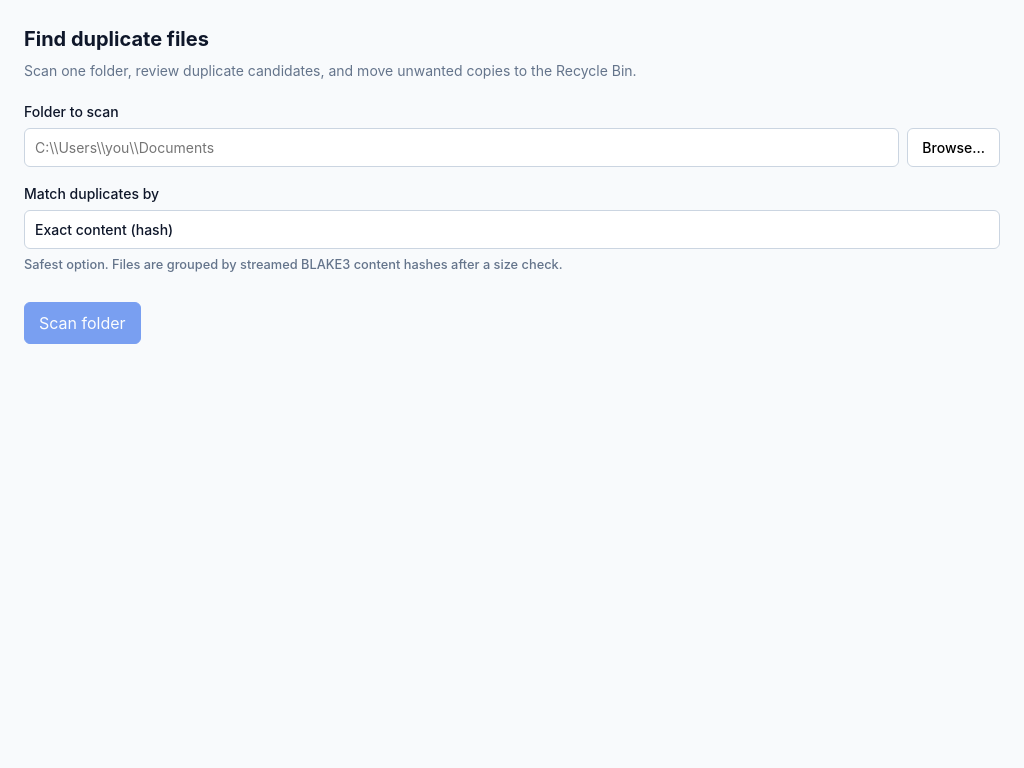
DuplicatesView › scans a folder and renders duplicate groups
Type "C:/Documents" into the field labelled "Folder to scan Browse..." at (462, 147), box [24, 128, 899, 167]
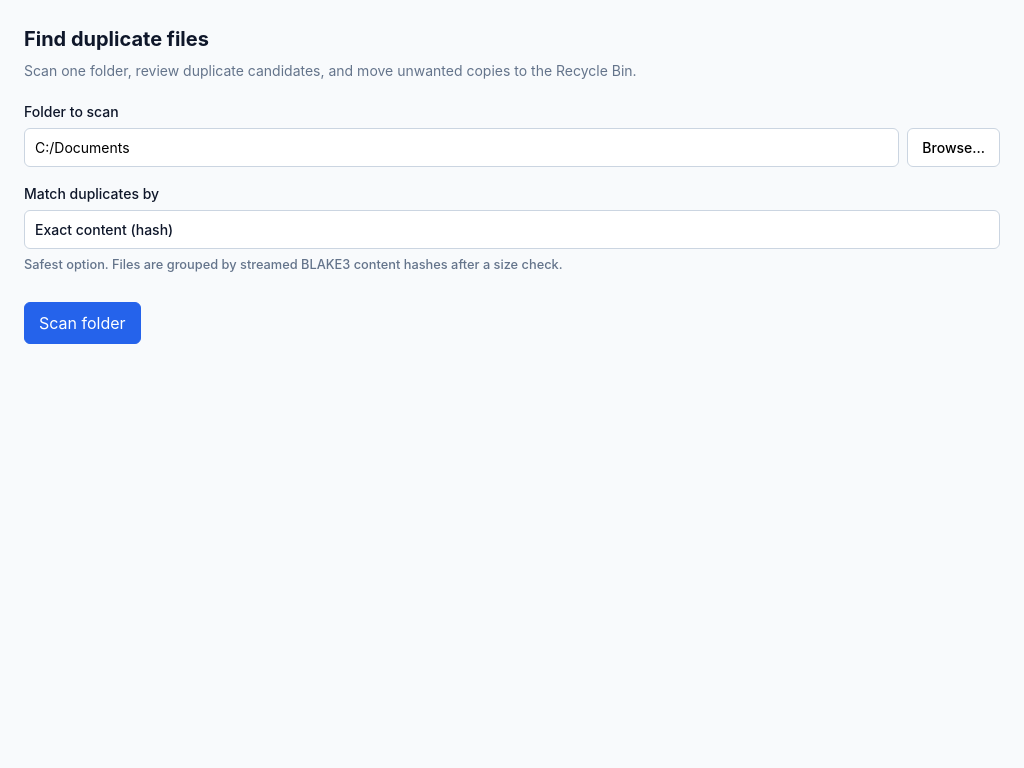
Click the button "Scan folder" at (82, 323), box [24, 302, 141, 344]
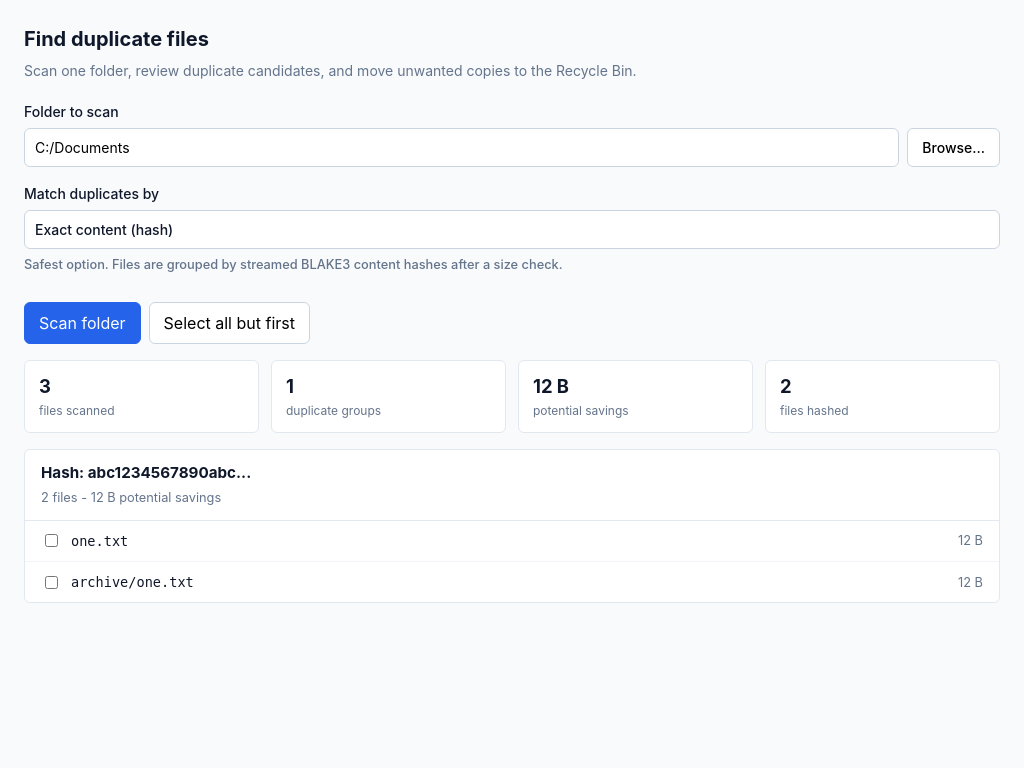
Check: the text "archive/one.txt" is shown, box [71, 574, 194, 590]
Check: the text "duplicate groups" is shown, box [286, 403, 381, 418]
